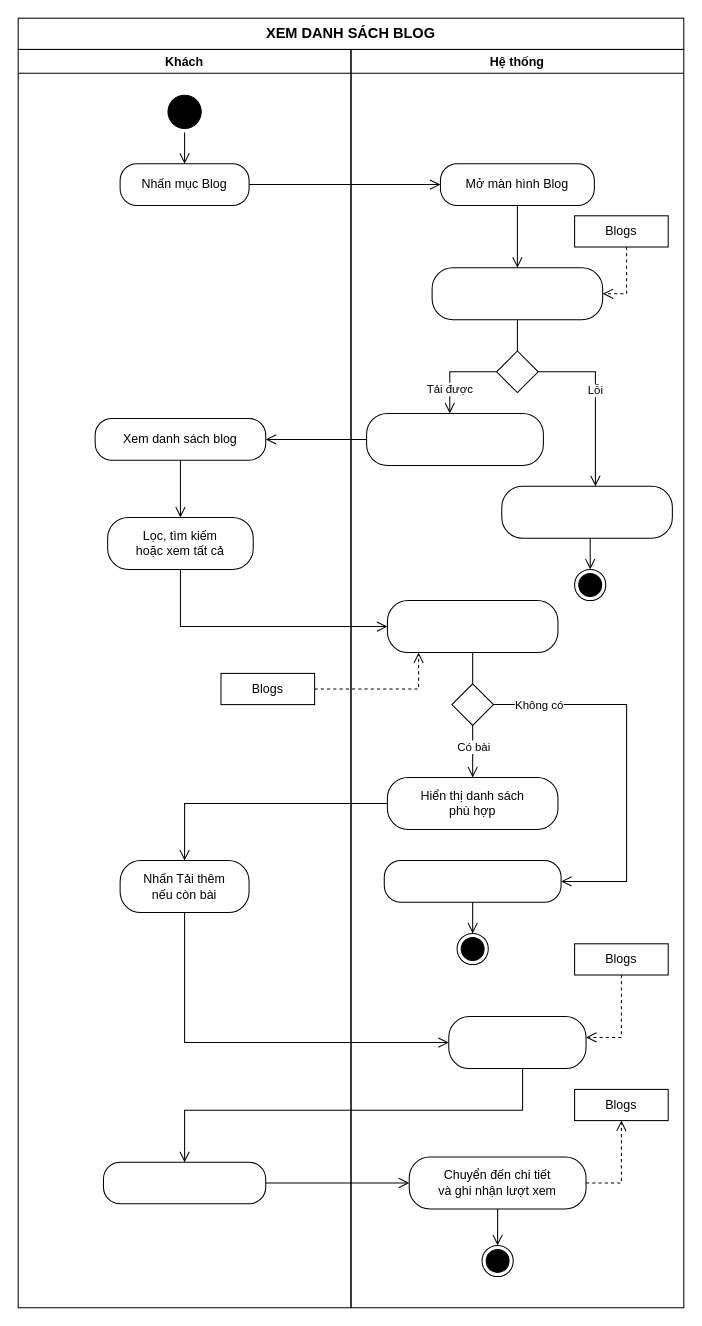
This 702x1326 diagram has some shape labels left out. Here are the shapes that lost their labels. From the top down, the centre of each, then its label:
(517,293): Tải danh sách blog công khai đã đăng
(454,438): Hiển thị bài đặc sắc và lưới blog
(586,511): Hiển thị thông báo không thể tải
(472,626): Cập nhật danh sách và phân trang
(472,881): Hiển thị trạng thái rỗng
(517,1042): Gắn thêm 9 bài tiếp theo
(184,1182): Nhấn một bài blog
